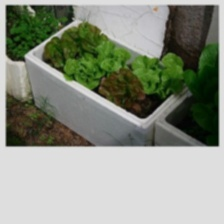foam_box: (21, 16, 199, 146), (5, 4, 64, 104), (151, 72, 218, 146)
